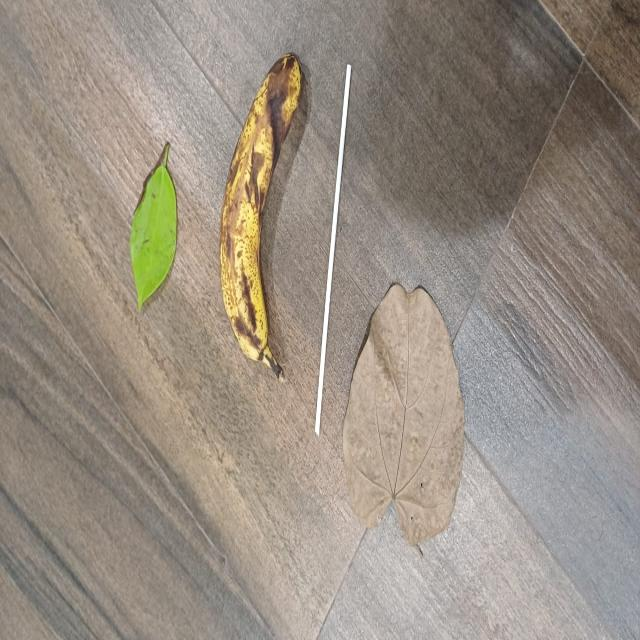Banana-Bio: (215, 41, 303, 380)
Leaf-Bio: (340, 277, 461, 555), (124, 136, 182, 318)
Straw-NonBio: (312, 57, 355, 445)
